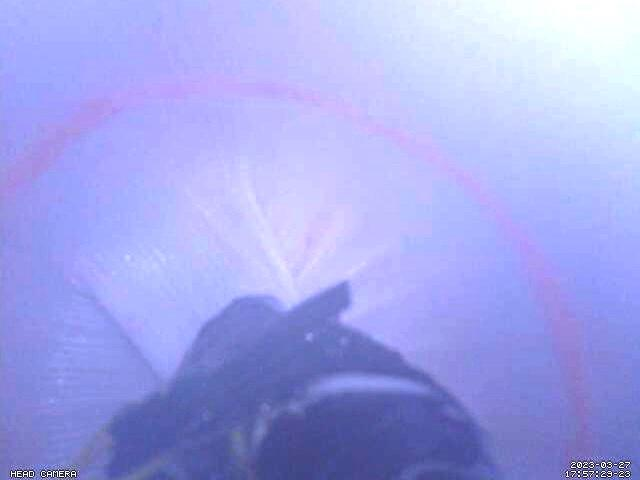head: (0, 73, 595, 480)
